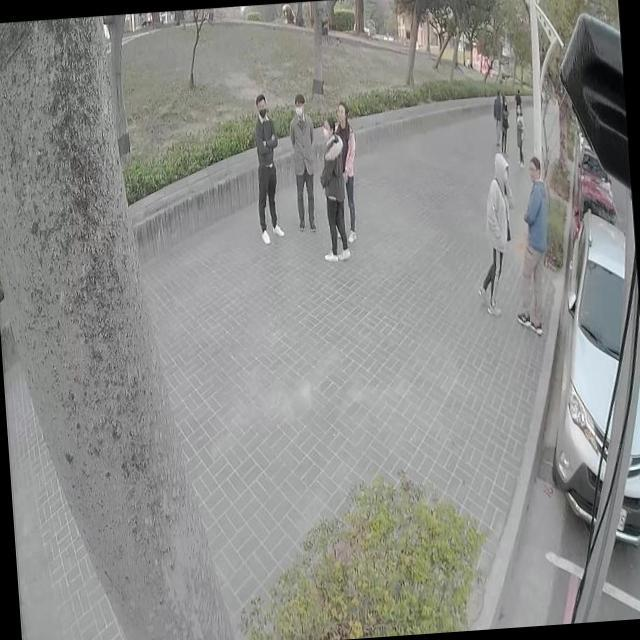person: (466, 154, 524, 318), (506, 154, 556, 335), (312, 110, 353, 269), (328, 94, 362, 246), (250, 92, 283, 241), (286, 92, 320, 230), (489, 86, 506, 150), (497, 94, 513, 155), (512, 94, 526, 163)
